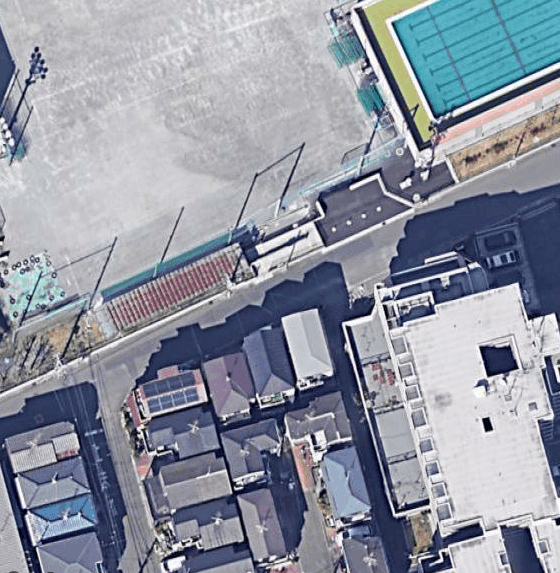flatroof: (324, 227, 559, 510)
